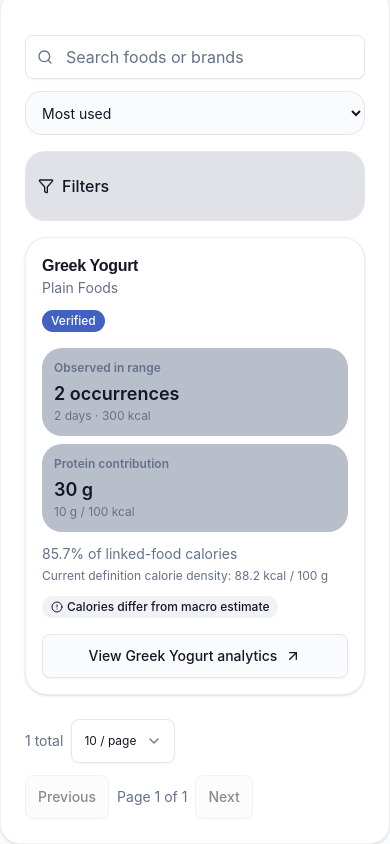
FoodAnalyticsWorkspace › opens exact immutable occurrence evidence and links to its date and meal
(page scrolled)
Click the button "View Greek Yogurt analytics". click: (195, 656)
box: 42,634 -> 348,678
(page scrolled)
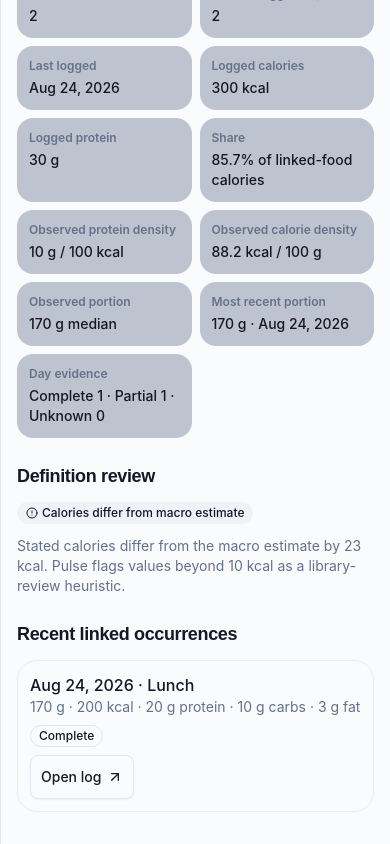
Expected: the text "Complete 1 · Partial 1 · Unknown 0" is shown, 29,386 -> 180,426
Expected: the text "88.2 kcal / 100 g" is shown 3 times
Expected: the text "170 g · Aug 24, 2026" is shown, 212,314 -> 362,334
